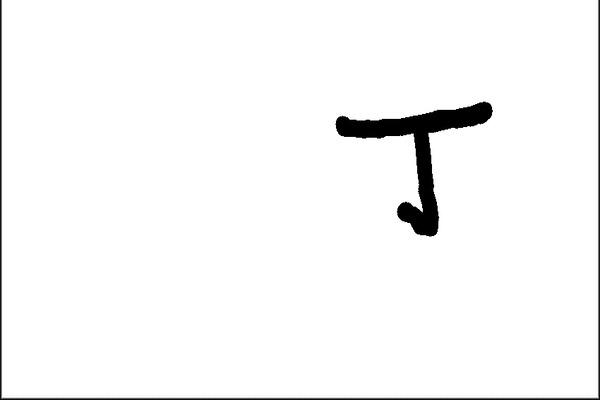J: (328, 101, 497, 243)
